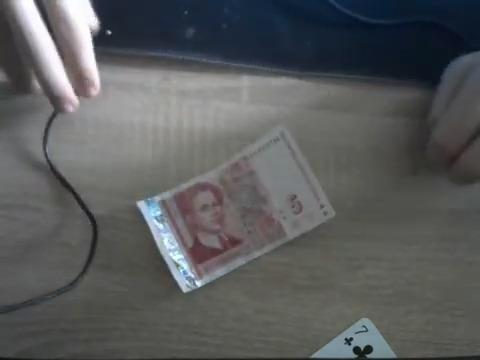5leva: (134, 127, 336, 295)
